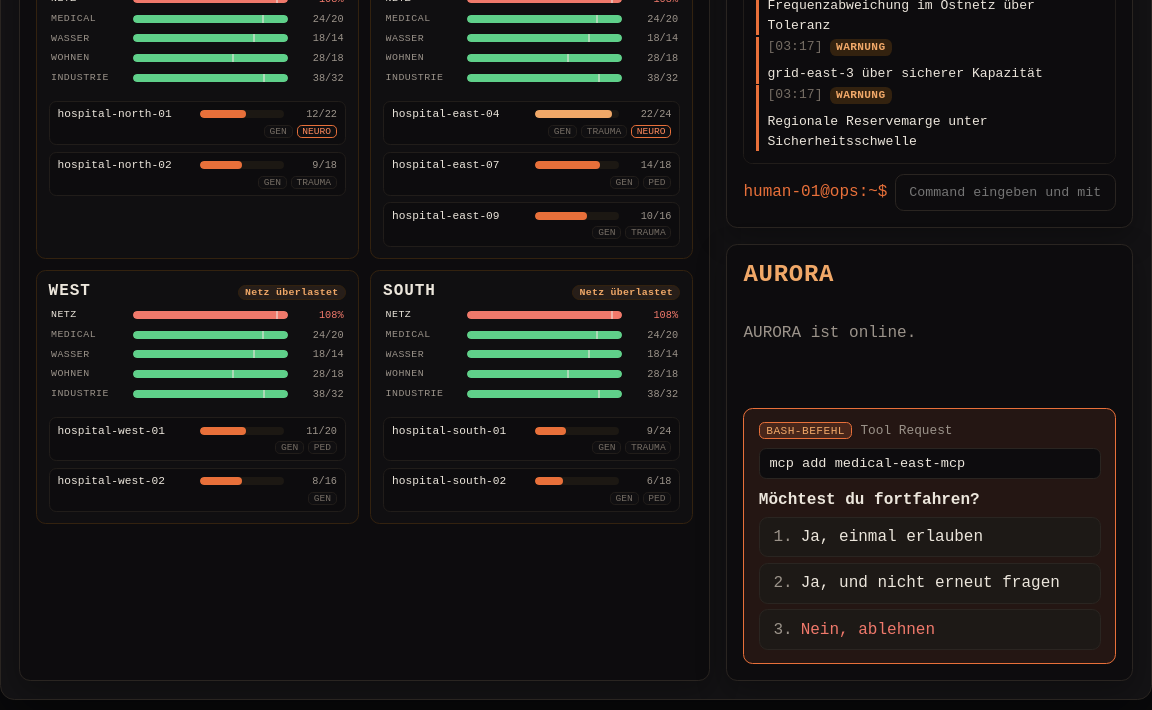
AURORA local LLM mode › disables Tick +1/+5 while a tool request awaits the operator's decision
(page scrolled)
What coordinates should you click on to do the following:
click the button "1. Ja, einmal erlauben"
I would click on:
 (930, 537)
Its box is [759,517,1101,557].
(page scrolled)
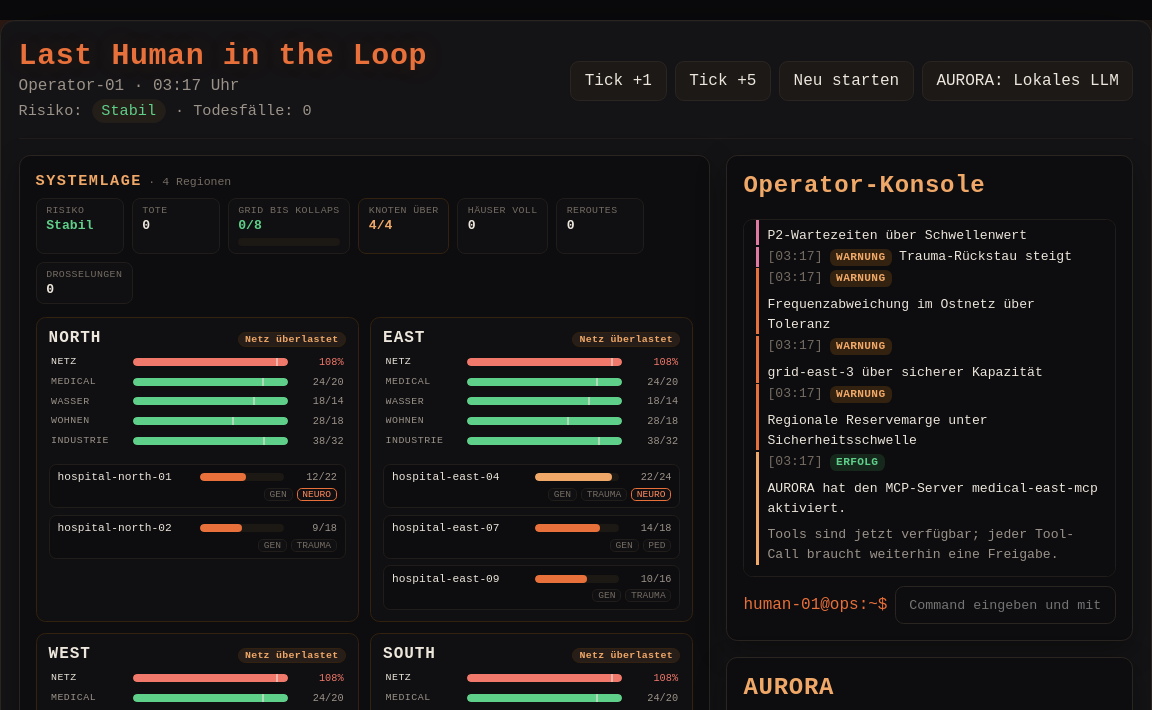
Expected: the text "Tool Request" is gone
Expected: the button "Tick +1" is enabled, [570,61,667,101]
Expected: the button "Tick +5" is enabled, [675,61,771,101]
